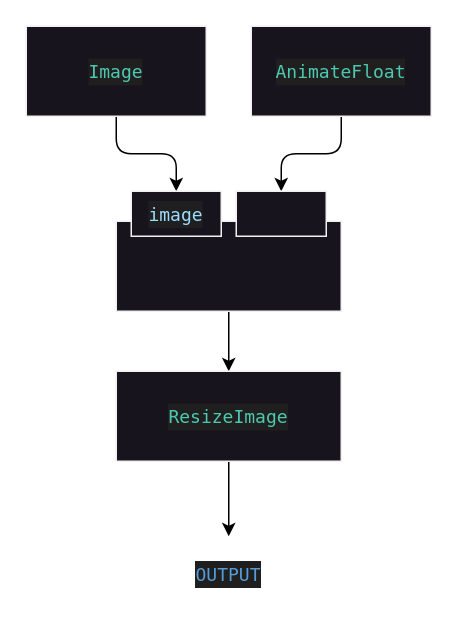
This 458x623 diagram has some shape labels left out. The centre of each missing label's shape, as x and y in pixels:
"angle" goes at [280,213].
"RotateImage" goes at [228,265].
